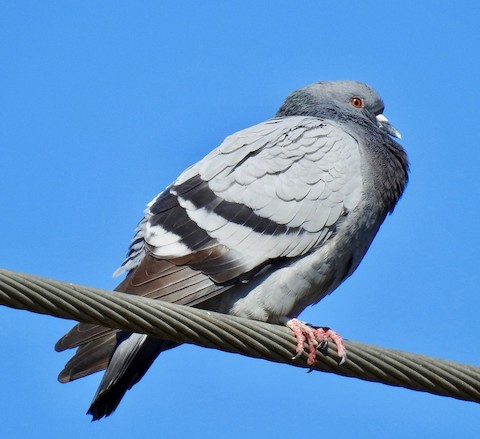pigeon: (54, 78, 417, 424)
